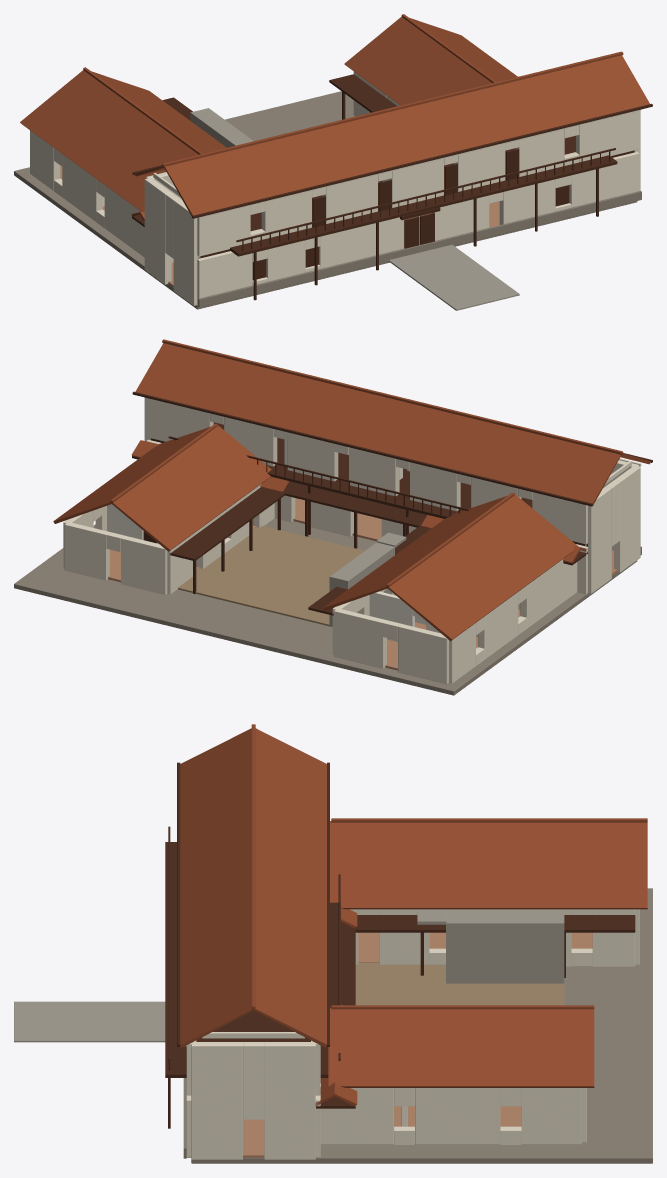
The model's file is JW_Hacienda_Mayorazgo_V6_1.fbx.
3 renders of one model, top to bottom at view 1: azimuth 30°, elevation 25°; view 2: azimuth 150°, elevation 25°; view 3: azimuth 270°, elevation 25°, orthographic. The views are drawn at different scales.
Parts seen in each view (by area): view 1: ARCH_Roof_Main, ARCH_Roof_West, ARCH_Roof_East, ARCH_Foundation, SITE_FacadePath, ARCH_ExteriorBalcony, ARCH_StonePlinth, ARCH_ExteriorWalls_Front_G_04, ARCH_ExteriorWalls_Front_G_10, ARCH_ExteriorWalls_Front_U_12, ARCH_ExteriorWalls_SW_00, ARCH_ExteriorWalls_SW_02 (+26 smaller); view 2: ARCH_Roof_Main, ARCH_Roof_West, ARCH_Foundation, ARCH_Roof_East, SITE_Courtyard, ARCH_ExteriorWalls_W_North_02, ARCH_CourtyardGallery_E, ARCH_ExteriorWalls_W_North_00, ARCH_ExteriorWalls_E_North_00, ARCH_ExteriorWalls_E_North_02, ARCH_ExteriorWalls_SW_02, ARCH_ExteriorWalls_W_Outer_00 (+27 smaller); view 3: ARCH_Roof_Main, ARCH_Roof_West, ARCH_Roof_East, ARCH_Foundation, SITE_Courtyard, SITE_FacadePath, ARCH_ExteriorWalls_SE_02, ARCH_ExteriorWalls_SE_00, ARCH_ExteriorWalls_E_Outer_02, ARCH_ExteriorWalls_E_Outer_00, ARCH_ExteriorWalls_E_Outer_04, ARCH_ExteriorBalcony (+26 smaller).
Part boxes in pixels (x1,y1,x2,y2): ARCH_Roof_Main: (135, 55, 649, 216); ARCH_Roof_West: (20, 70, 226, 211); ARCH_Roof_East: (344, 17, 517, 105); ARCH_Foundation: (14, 91, 637, 309); SITE_FacadePath: (389, 244, 519, 310); ARCH_ExteriorBalcony: (229, 155, 617, 256); ARCH_StonePlinth: (198, 191, 641, 307); ARCH_ExteriorWalls_Front_G_04: (319, 217, 403, 268); ARCH_ExteriorWalls_Front_G_10: (569, 152, 639, 207); ARCH_ExteriorWalls_Front_U_12: (576, 111, 639, 162); ARCH_ExteriorWalls_SW_00: (173, 199, 200, 305); ARCH_ExteriorWalls_SW_02: (144, 178, 171, 284); ARCH_Roof_Main: (135, 343, 650, 504); ARCH_Roof_West: (323, 494, 578, 641); ARCH_Foundation: (14, 518, 637, 695); ARCH_Roof_East: (53, 425, 271, 551); SITE_Courtyard: (178, 525, 364, 626); ARCH_ExteriorWalls_W_North_02: (334, 609, 386, 668); ARCH_CourtyardGallery_E: (170, 481, 297, 561); ARCH_ExteriorWalls_W_North_00: (398, 624, 448, 684); ARCH_ExteriorWalls_E_North_00: (121, 535, 167, 594); ARCH_ExteriorWalls_E_North_02: (64, 522, 109, 580); ARCH_ExteriorWalls_SW_02: (585, 486, 611, 593); ARCH_ExteriorWalls_W_Outer_00: (520, 544, 578, 628); ARCH_Roof_Main: (180, 728, 326, 1047); ARCH_Roof_West: (330, 821, 647, 909); ARCH_Roof_East: (329, 1007, 594, 1087); ARCH_Foundation: (191, 888, 652, 1163); SITE_Courtyard: (355, 962, 564, 1005); SITE_FacadePath: (14, 1001, 165, 1042); ARCH_ExteriorWalls_SE_02: (264, 1042, 315, 1159); ARCH_ExteriorWalls_SE_00: (191, 1042, 242, 1159); ARCH_ExteriorWalls_E_Outer_02: (415, 1088, 500, 1144); ARCH_ExteriorWalls_E_Outer_00: (320, 1083, 393, 1144); ARCH_ExteriorWalls_E_Outer_04: (521, 1088, 581, 1144); ARCH_ExteriorBalcony: (165, 842, 186, 1077).
Bounding box in the file's own units: 37.6 × 10.16 × 36.
